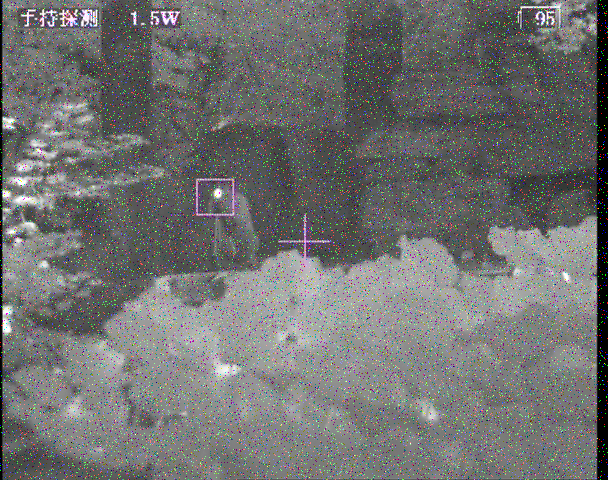my: (212, 186, 225, 201)
